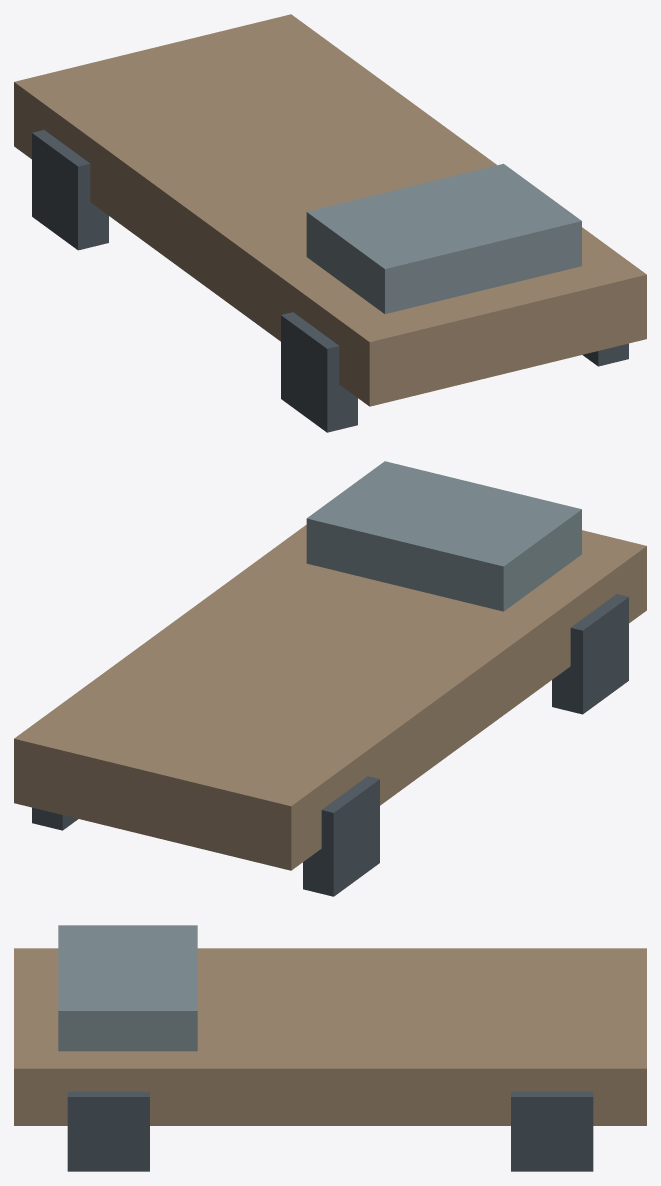
Rendered from mechanic_creeper.glb.
3 renders of one model, top to bottom at view 1: azimuth 30°, elevation 25°; view 2: azimuth 150°, elevation 25°; view 3: azimuth 270°, elevation 25°, orthographic. The views are drawn at different scales.
Parts seen in each view (by area): view 1: body; view 2: body; view 3: body.
Part boxes in pixels (bbox=[...]): body: bbox=[14, 14, 646, 432]; body: bbox=[14, 461, 646, 896]; body: bbox=[14, 925, 646, 1171].
Bounding box in the file's own units: 0.49 × 0.24 × 1.
